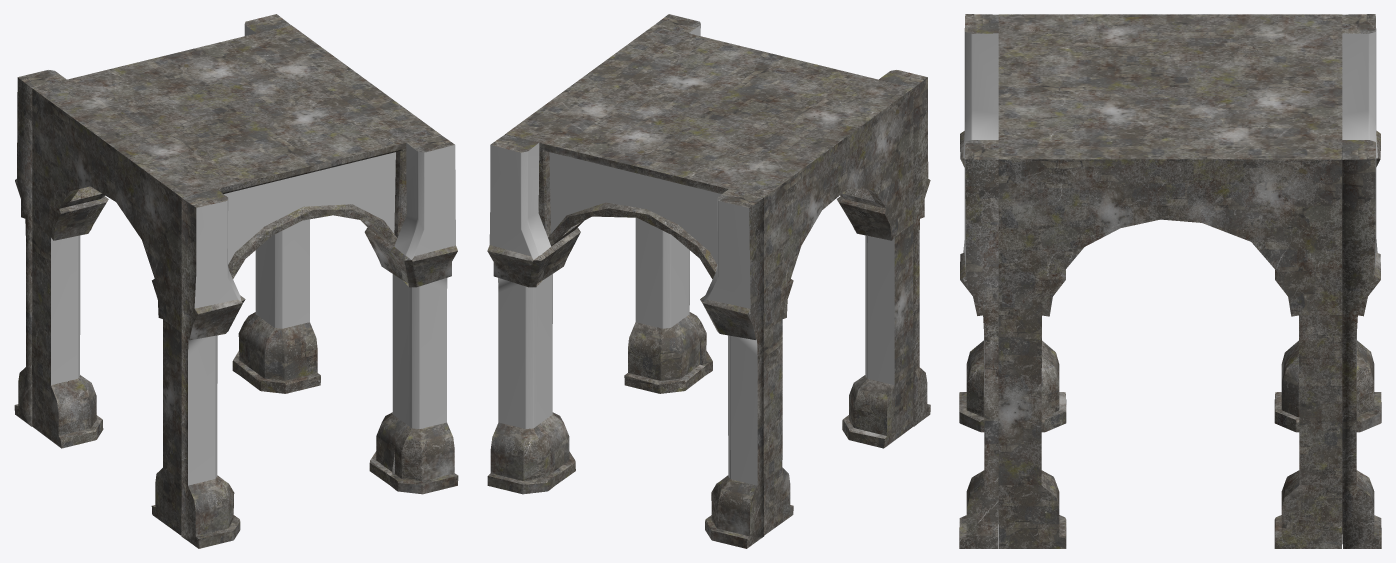
Rendered from SM_Arch_Walkway_Side_B.fbx.
The picture shows the model from 3 angles, left to right: view 1: azimuth 30°, elevation 25°; view 2: azimuth 150°, elevation 25°; view 3: azimuth 270°, elevation 25°; orthographic projection. The views are drawn at different scales.
Visible parts, largest first — view 1: SM_Arch_Walkway_Side_B_LOD0; view 2: SM_Arch_Walkway_Side_B_LOD0; view 3: SM_Arch_Walkway_Side_B_LOD0.
Boxes of the visible parts, left/top/right/bottom form: SM_Arch_Walkway_Side_B_LOD0: left=14, top=14, right=458, bottom=548; SM_Arch_Walkway_Side_B_LOD0: left=487, top=14, right=930, bottom=548; SM_Arch_Walkway_Side_B_LOD0: left=959, top=14, right=1381, bottom=548.
Size of the model in its own units: 406 by 491 by 501.
